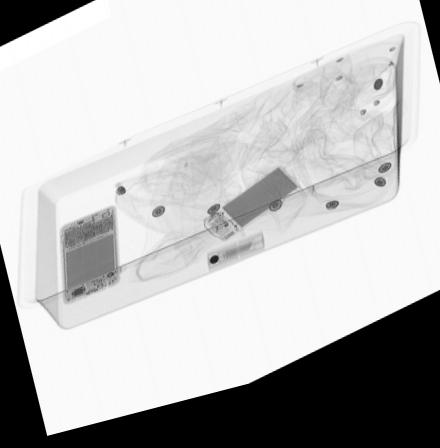Powerbank: (203, 180, 299, 252)
